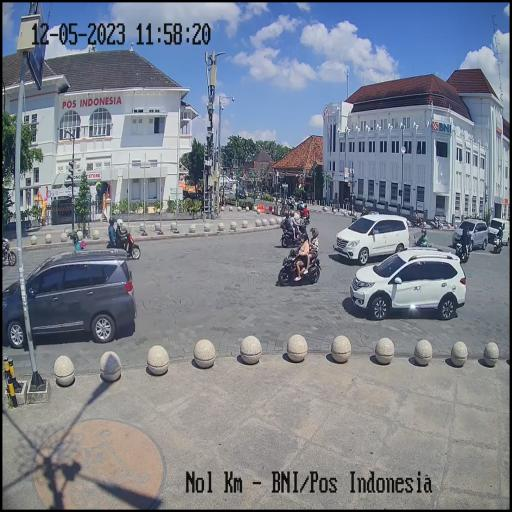mobil: (0, 252, 136, 346), (349, 243, 468, 320), (332, 207, 411, 269), (452, 216, 488, 252)
motor: (276, 242, 324, 290), (106, 232, 141, 260)
